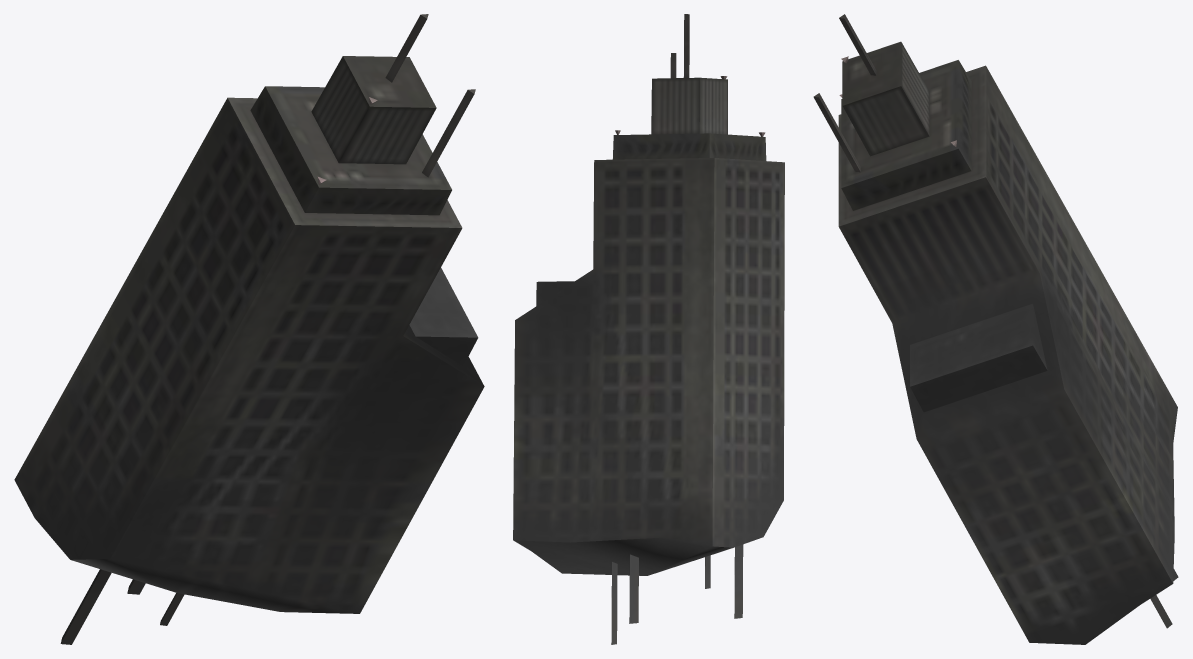
The model's file is skyBuildingAAB_pos_grp (21).fbx.
The picture shows the model from 3 angles, left to right: view 1: azimuth 30°, elevation 25°; view 2: azimuth 150°, elevation 25°; view 3: azimuth 270°, elevation 25°; orthographic projection. The views are drawn at different scales.
Parts seen in each view (by area): view 1: skyBuildingAAB_geo; view 2: skyBuildingAAB_geo; view 3: skyBuildingAAB_geo.
Boxes of the visible parts, x1=… form: skyBuildingAAB_geo: x1=14, y1=14, x2=484, y2=644; skyBuildingAAB_geo: x1=513, y1=14, x2=784, y2=644; skyBuildingAAB_geo: x1=813, y1=14, x2=1178, y2=644.
Bounding box in the file's own units: 4.49 × 9.01 × 4.62.
Materials: 1 (1 with a texture image).
